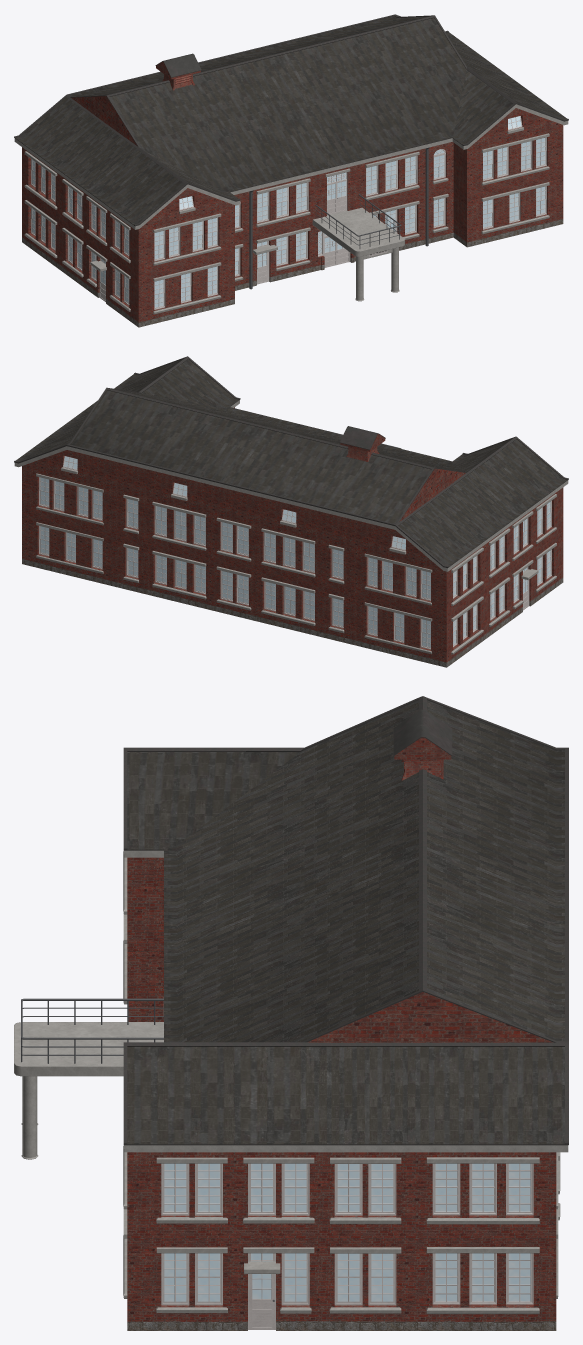
The model's file is jejungwon_hospital.glb.
3 renders of one model, top to bottom at view 1: azimuth 30°, elevation 25°; view 2: azimuth 150°, elevation 25°; view 3: azimuth 270°, elevation 25°, orthographic. The views are drawn at different scales.
Parts seen in each view (by area): view 1: JejungwonHospital_WallRoof_JejungwonHospital_WallRoof_0, JejungwonHospital_Etc_JejungwonHospital_Etc_0 (×2); view 2: JejungwonHospital_WallRoof_JejungwonHospital_WallRoof_0, JejungwonHospital_Etc_JejungwonHospital_Etc_0; view 3: JejungwonHospital_WallRoof_JejungwonHospital_WallRoof_0, JejungwonHospital_Etc_JejungwonHospital_Etc_0.
Boxes of the visible parts, <box> form: JejungwonHospital_WallRoof_JejungwonHospital_WallRoof_0: <box>15,16,566,327</box>; JejungwonHospital_Etc_JejungwonHospital_Etc_0 (×2): <box>14,14,568,314</box>; JejungwonHospital_WallRoof_JejungwonHospital_WallRoof_0: <box>16,359,567,667</box>; JejungwonHospital_Etc_JejungwonHospital_Etc_0: <box>14,356,568,654</box>; JejungwonHospital_WallRoof_JejungwonHospital_WallRoof_0: <box>127,700,564,1330</box>; JejungwonHospital_Etc_JejungwonHospital_Etc_0: <box>14,696,568,1329</box>.
Size of the model in its own units: 30.94 by 12.27 by 18.47.
2 materials, 2 textured.
